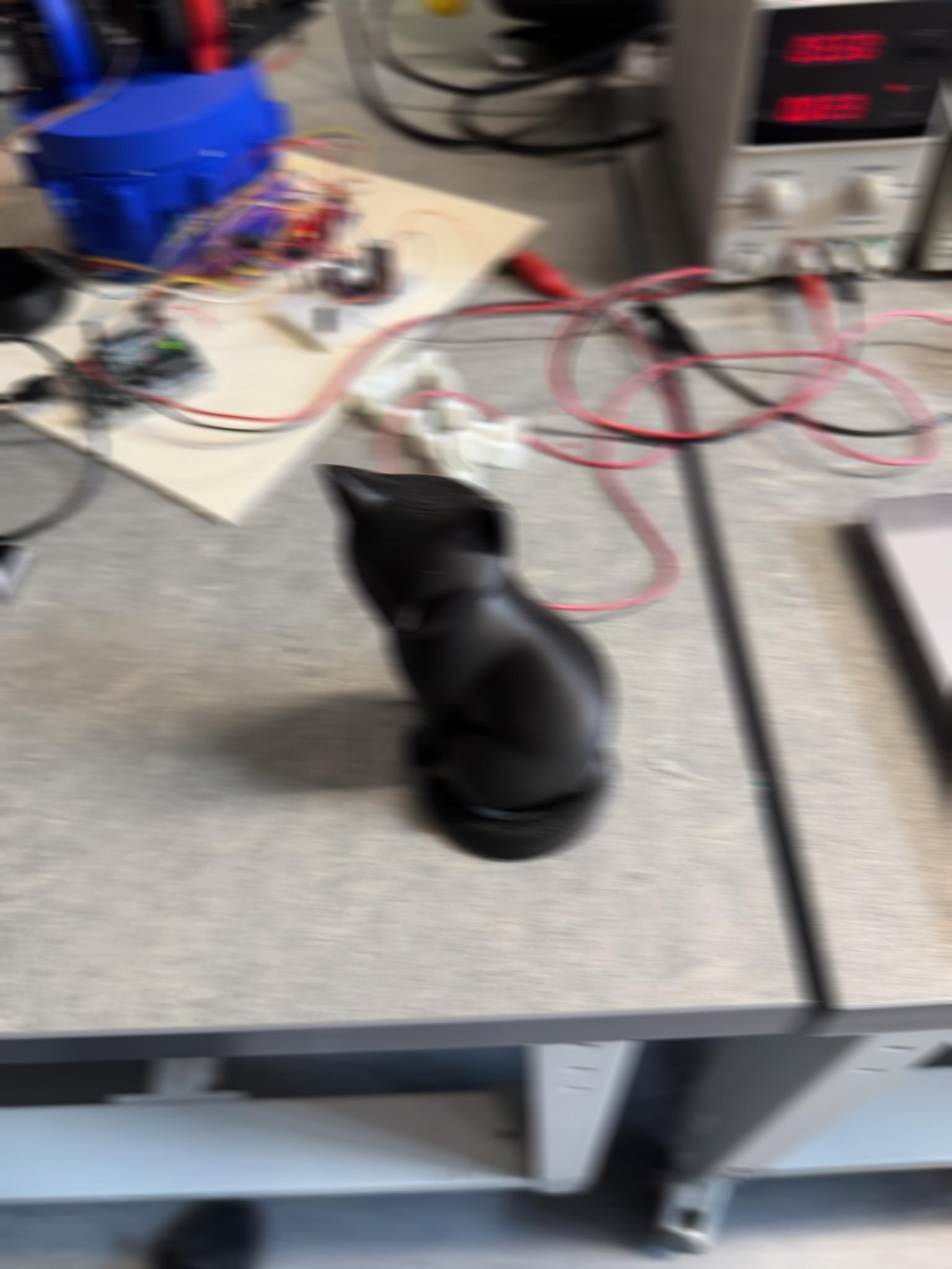cat: (320, 465, 615, 860)
